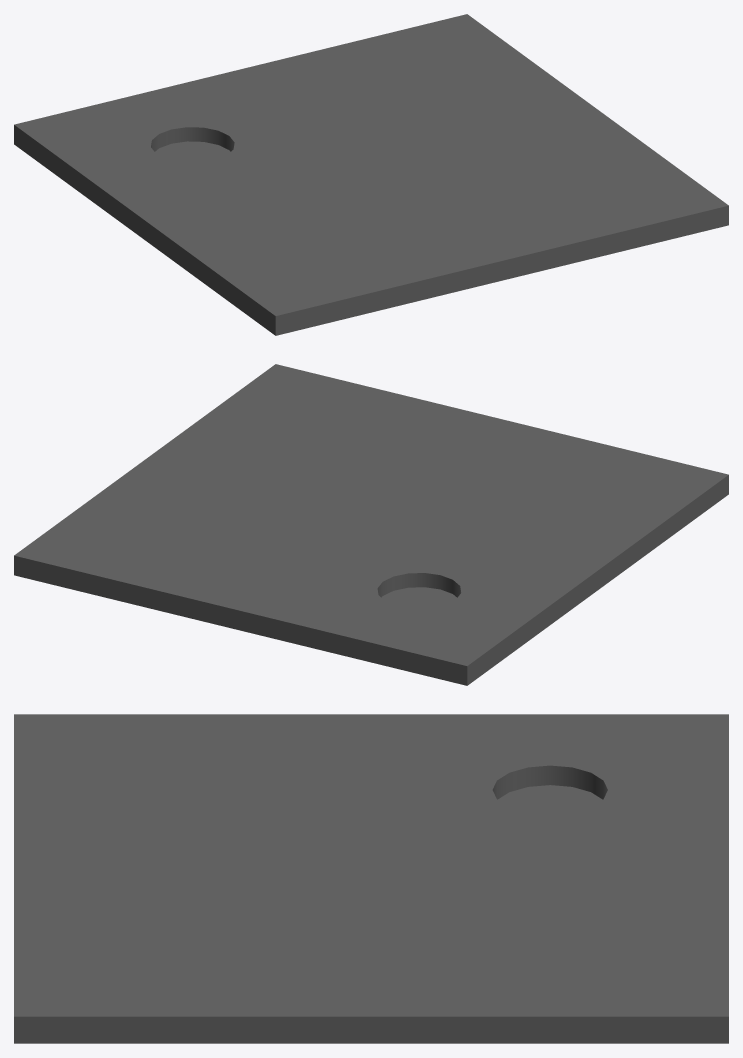
The model's file is floor_2.fbx.
3 views of the same model, one above another, from view 1: azimuth 30°, elevation 25°; view 2: azimuth 150°, elevation 25°; view 3: azimuth 270°, elevation 25° (orthographic). The views are drawn at different scales.
Parts seen in each view (by area): view 1: m2; view 2: m2; view 3: m2.
Part boxes in pixels (x1,y1,x2,y2): m2: (14,14,728,335); m2: (14,364,728,685); m2: (14,714,728,1043).
Size of the model in its own units: 2400 by 100 by 2400.
Materials: 1 (1 with a texture image).
